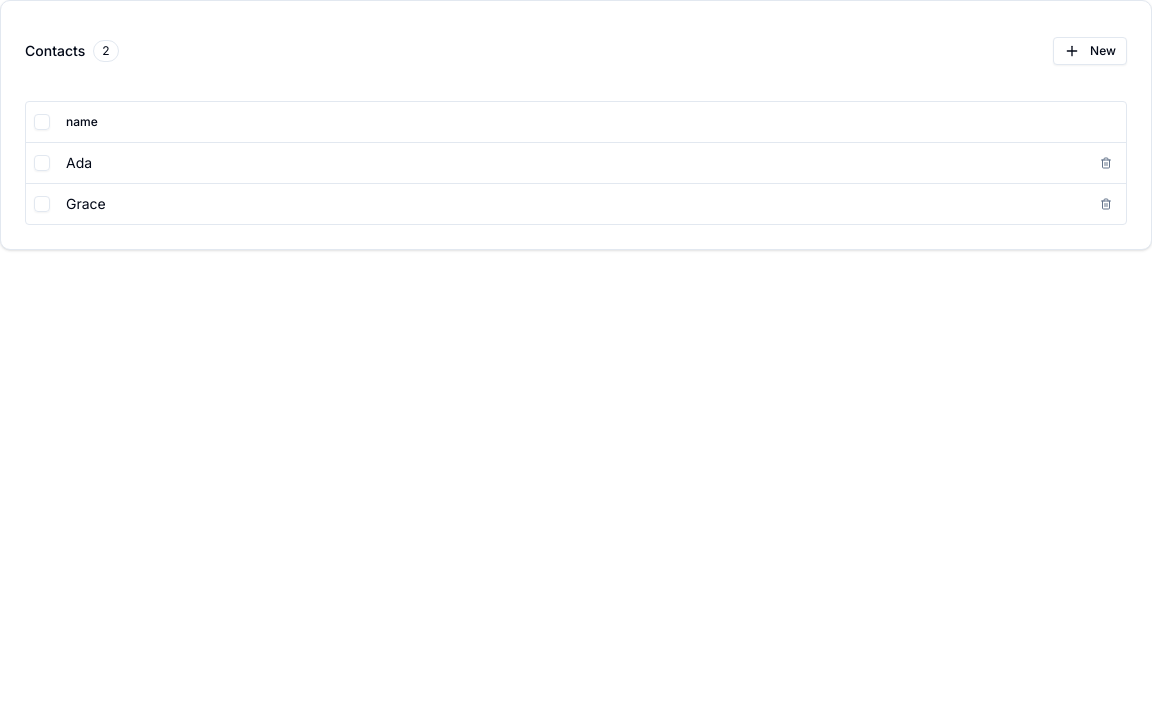
Test: RelatedList › mass edit (bulk jobs) › blocks submit when validation fails (required field left empty)
What coordinates should you click on to do the following:
click the checkbox with test id "related-select-all"
I would click on:
 (42, 122)
Its box is [34,114,50,130].
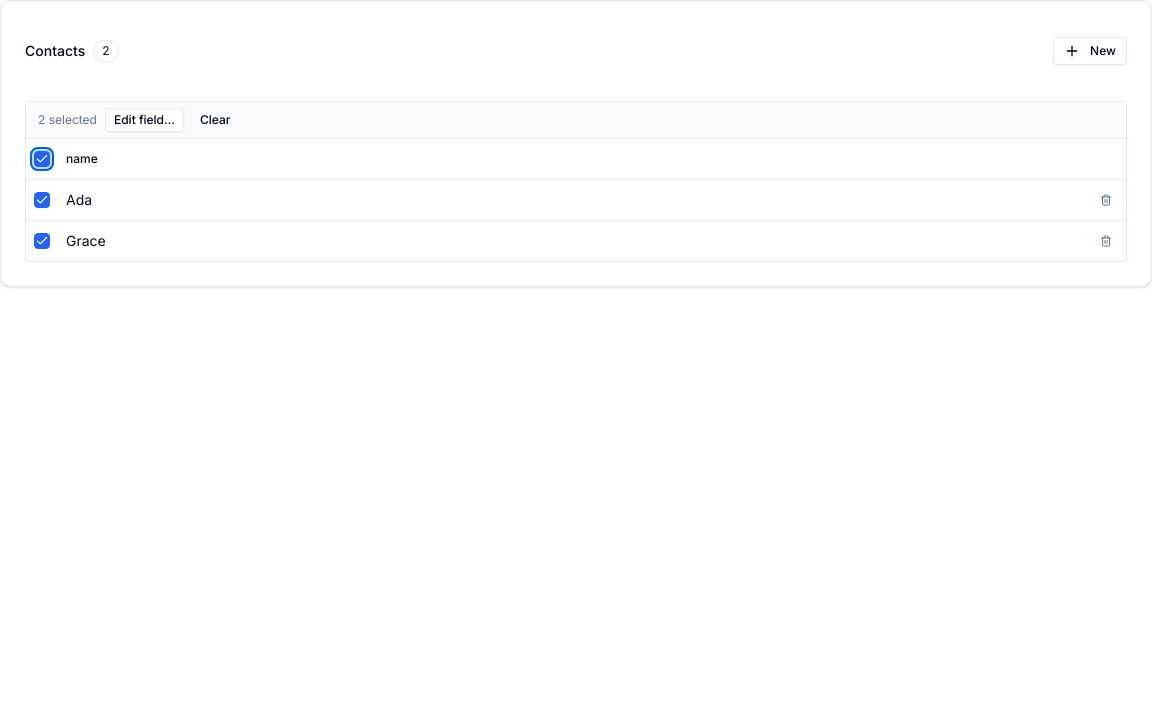
What coordinates should you click on to do the following:
click the button with test id "related-mass-edit-open"
I would click on:
 (144, 120)
Its box is [105,108,184,132].
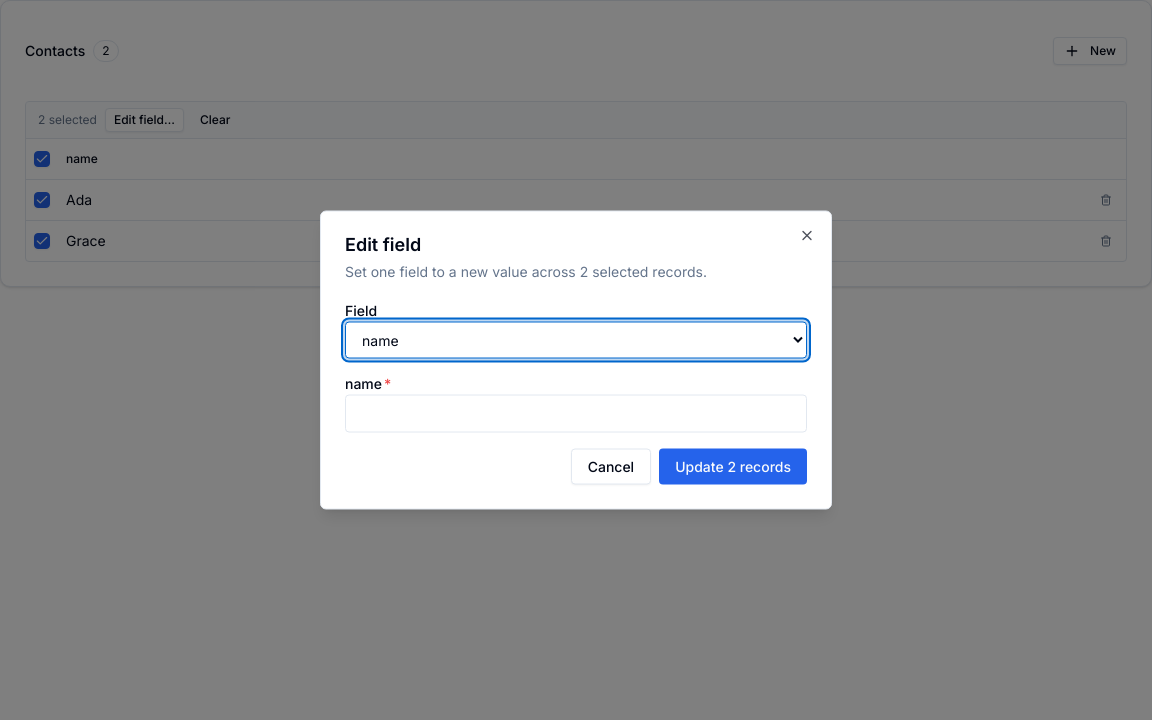
Default field is `name` (required) — submit with no value.
What coordinates should you click on to do the following:
click the button with test id "mass-edit-submit"
I would click on:
 (733, 466)
Its box is [659,448,807,484].
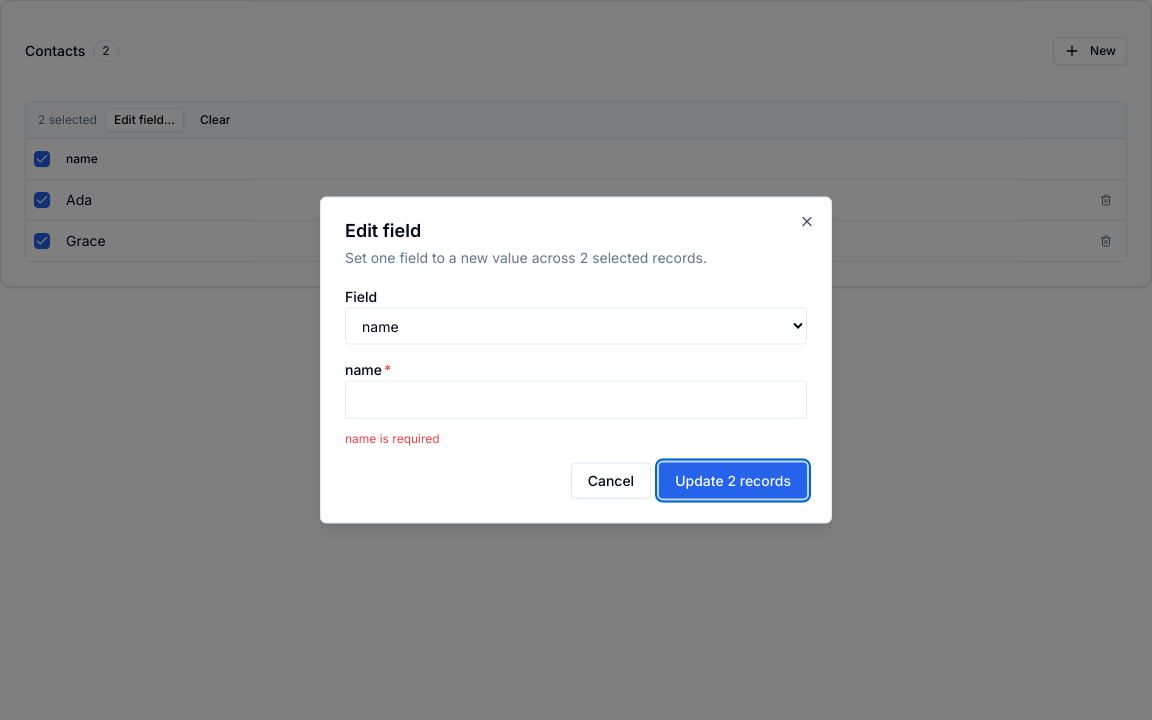
Result: the message with test id "mass-edit-error" shows "is required" at [345,430,440,446]
